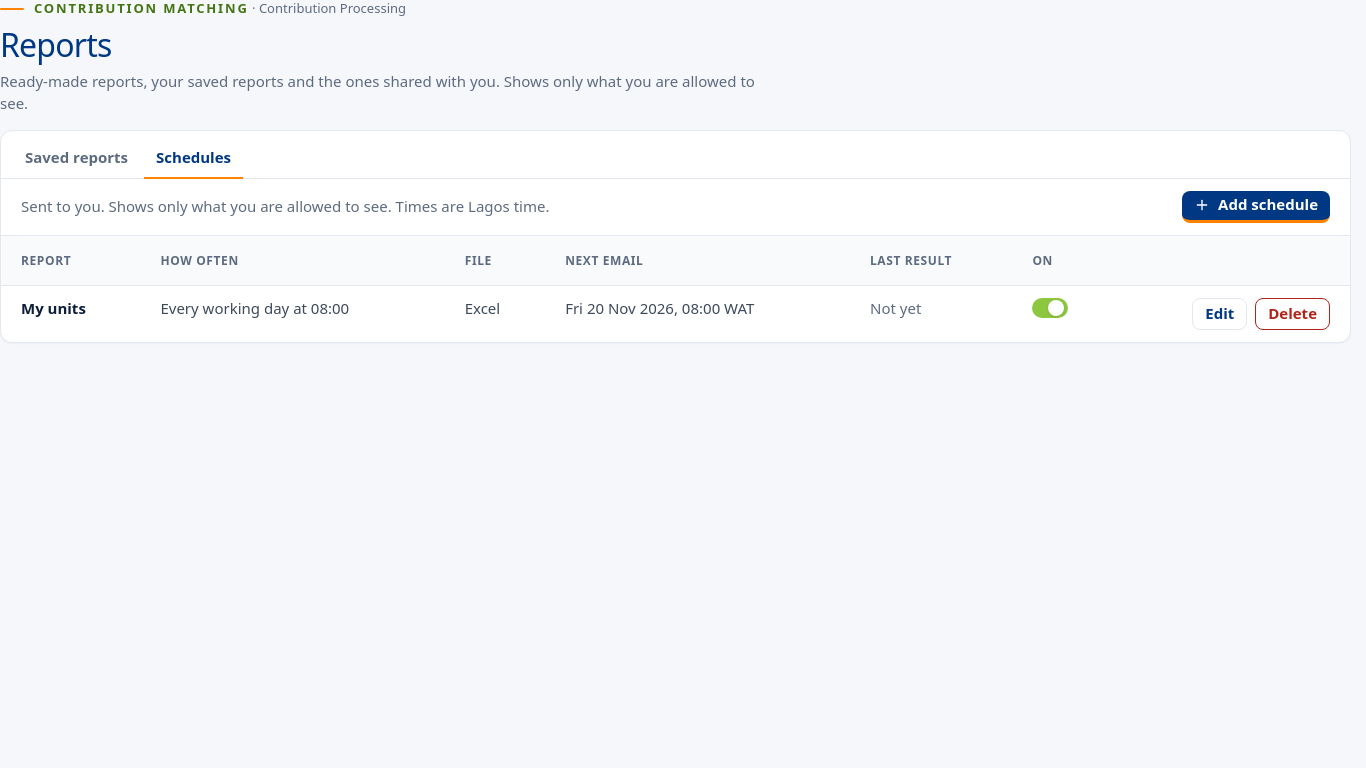
Test: Reports: email schedules › adds a monthly schedule and shows the first send from the response
Expected: the row with test id "schedule-My units" is shown, [1,285,1350,342]
Click the button "Add schedule" at (1256, 207), box [1182,191,1330,223]
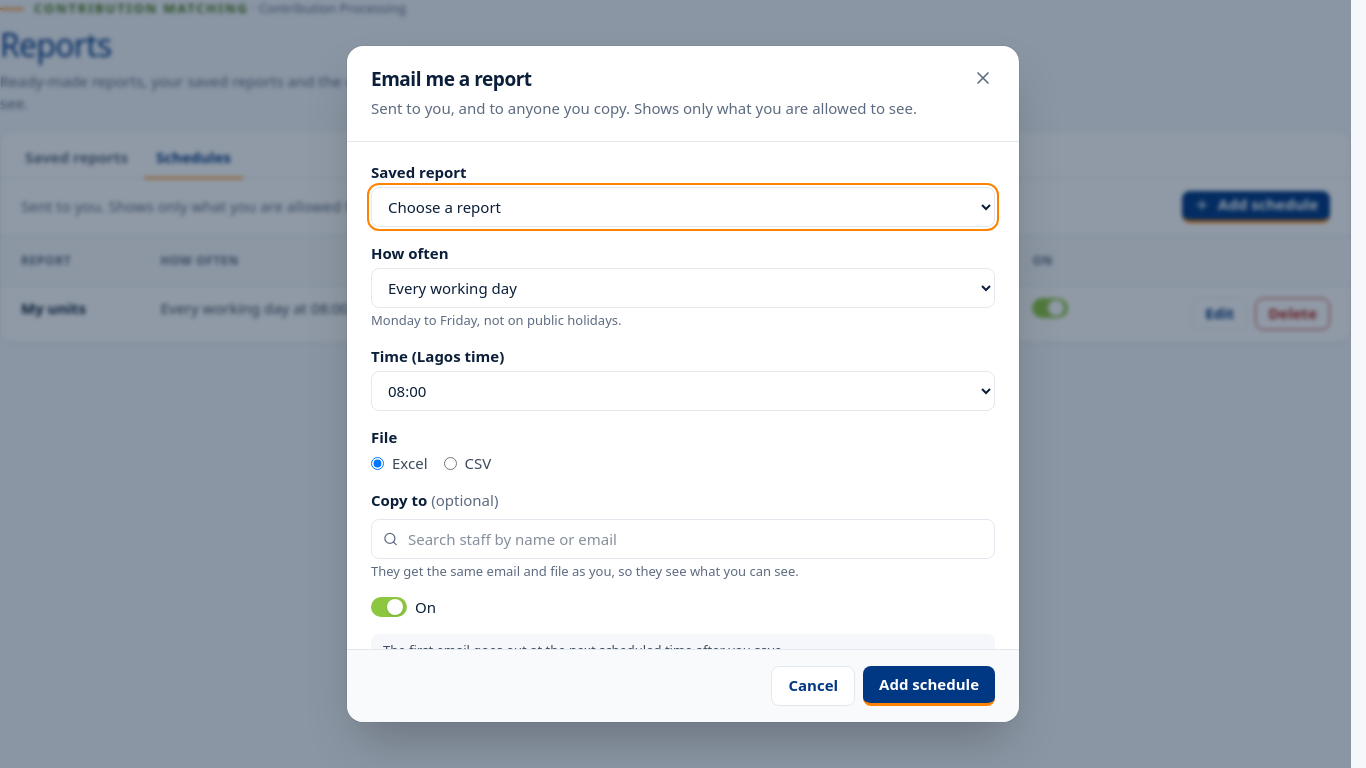
Select "Weekly backlog" in the dropdown labelled "Saved report" at (683, 207), box [371,187,995,227]
Select "Monthly" in the dropdown labelled "How often" at (683, 288), box [371,268,995,308]
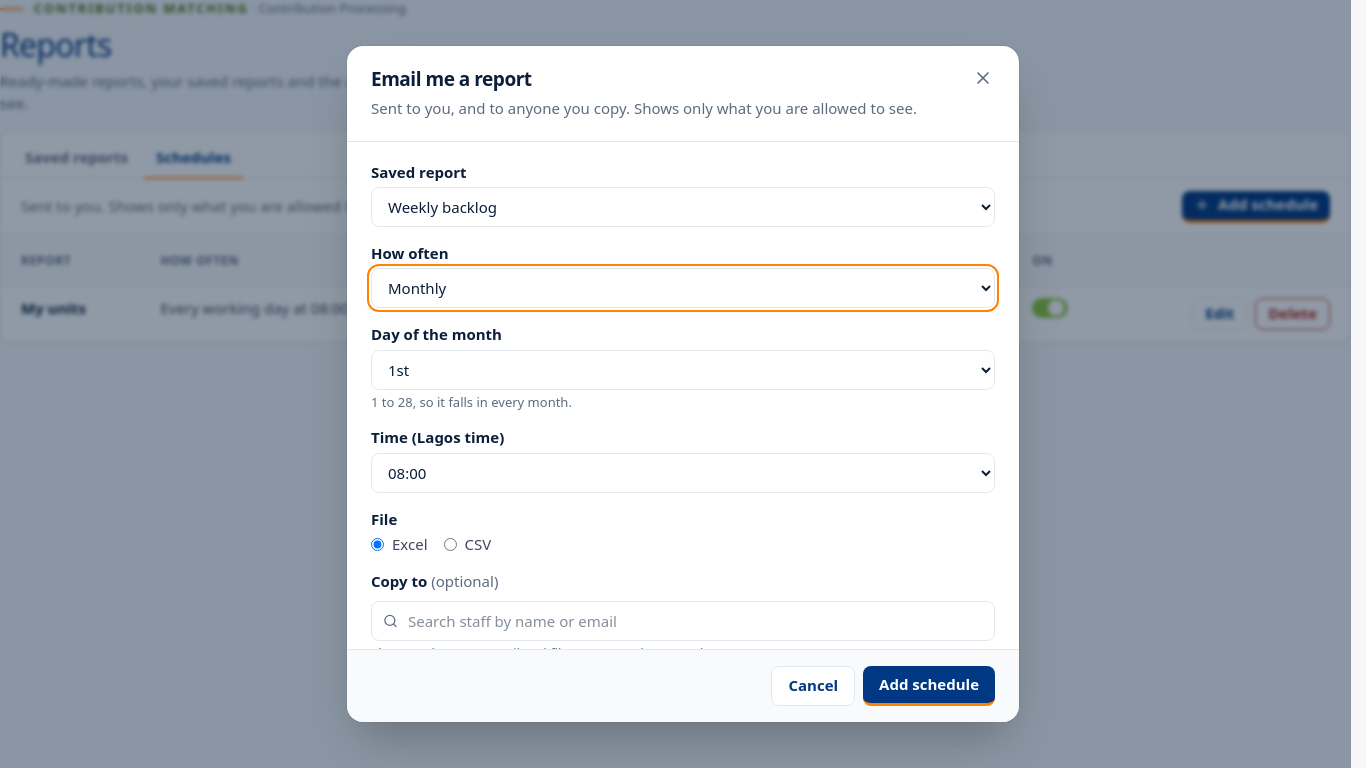
Select "5th" in the dropdown labelled "Day of the month" at (683, 370), box [371,350,995,390]
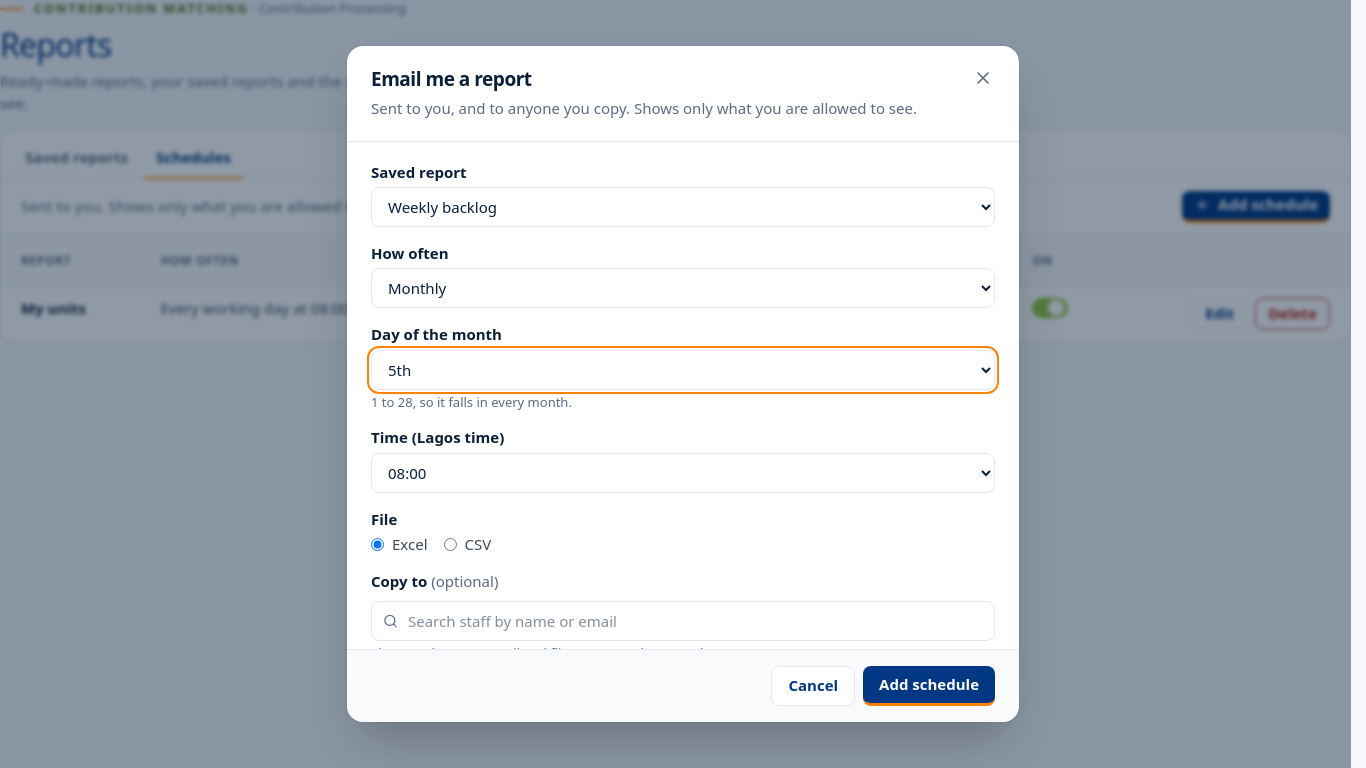
Select "07:00" in the dropdown labelled "Time (Lagos time)" at (683, 473), box [371,453,995,493]
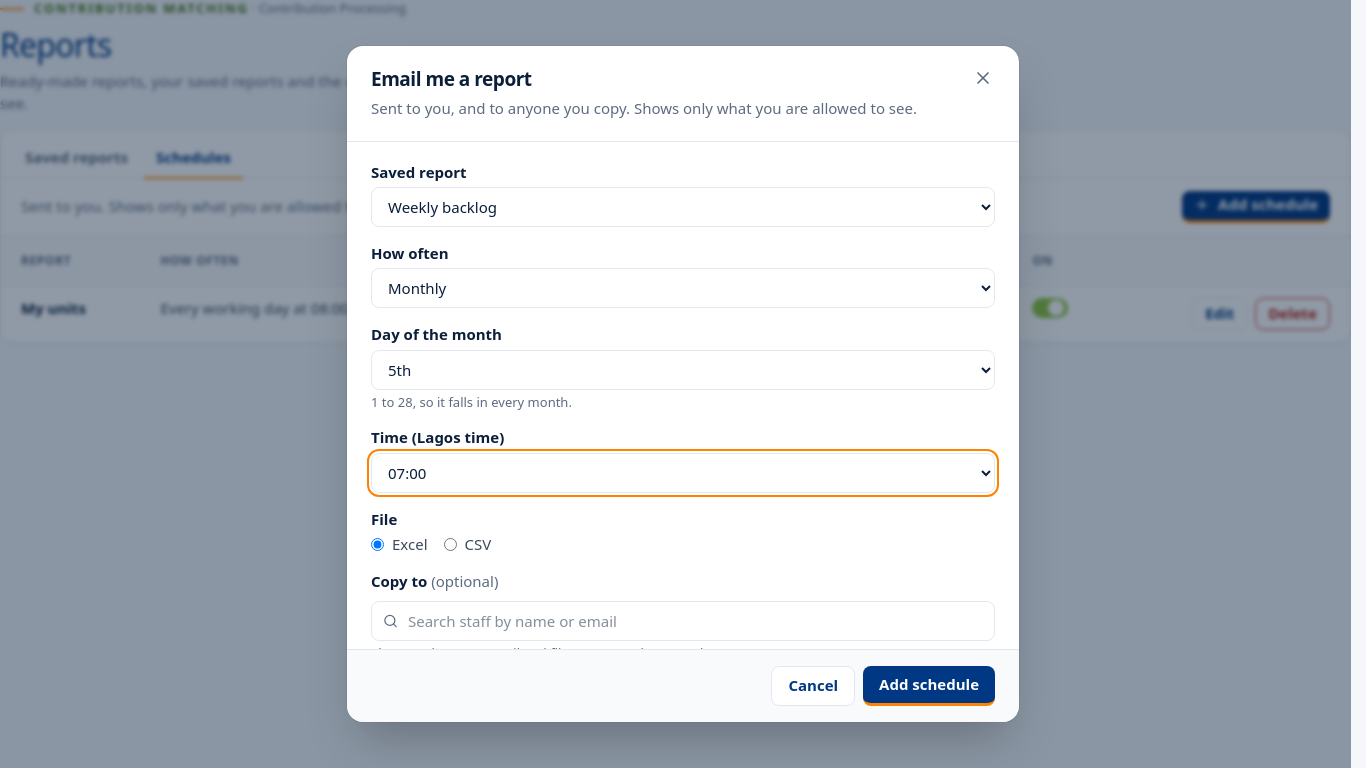
Click the radio button labelled "CSV" at (450, 545), box [444,538,456,551]
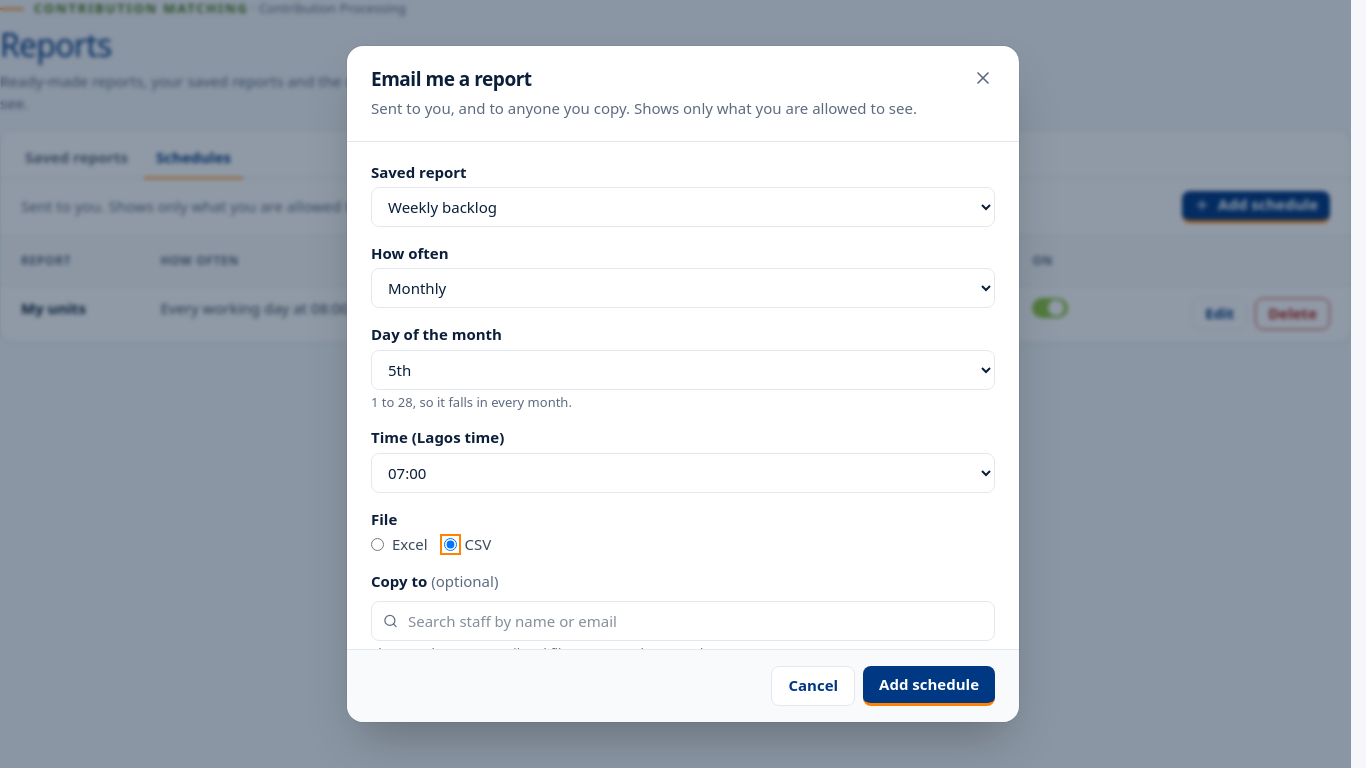
Click the button "Add schedule" at (929, 686), box [863,666,995,706]
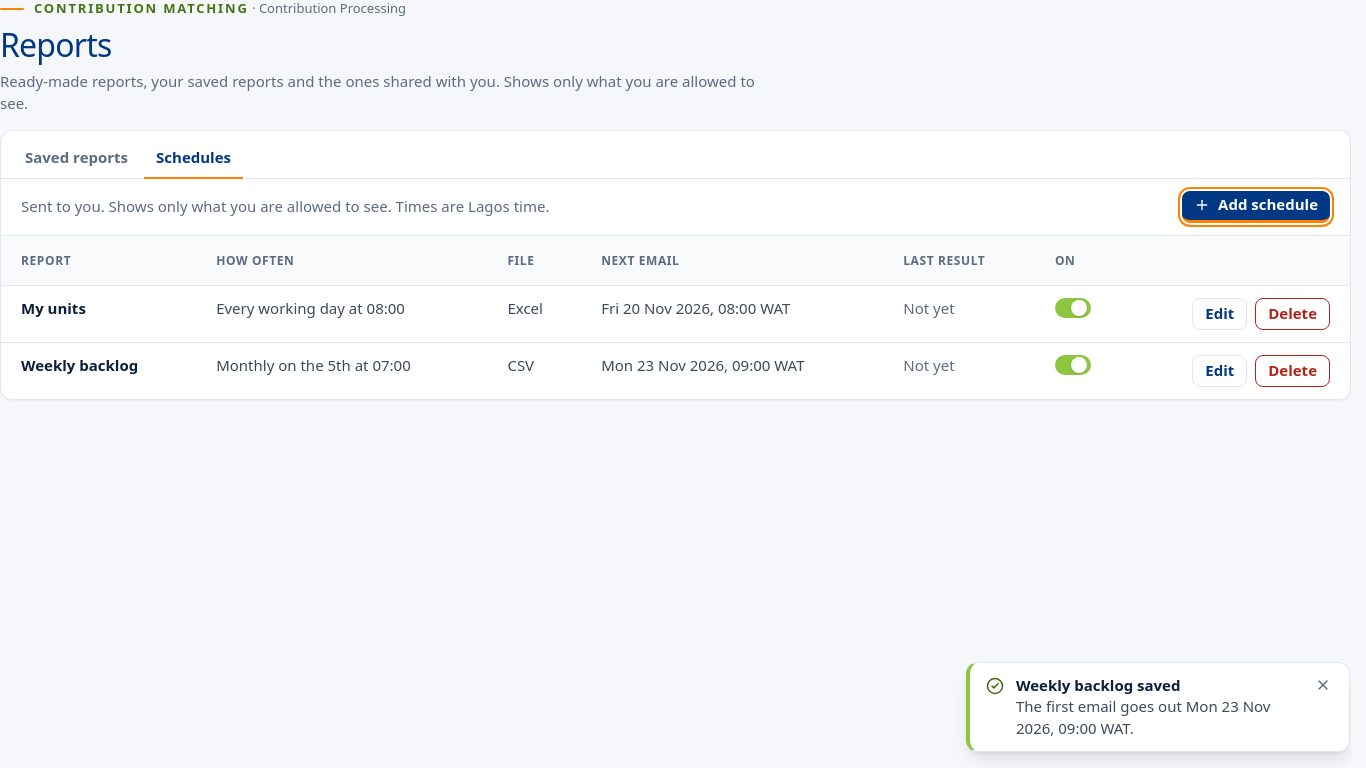
Now the text "The first email goes out Mon 23 Nov 2026, 09:00 WAT." is shown, box [1016,696,1301,739]
Now the row with test id "schedule-Weekly backlog" shows "Monthly on the 5th at 07:00", box [216,355,411,375]
